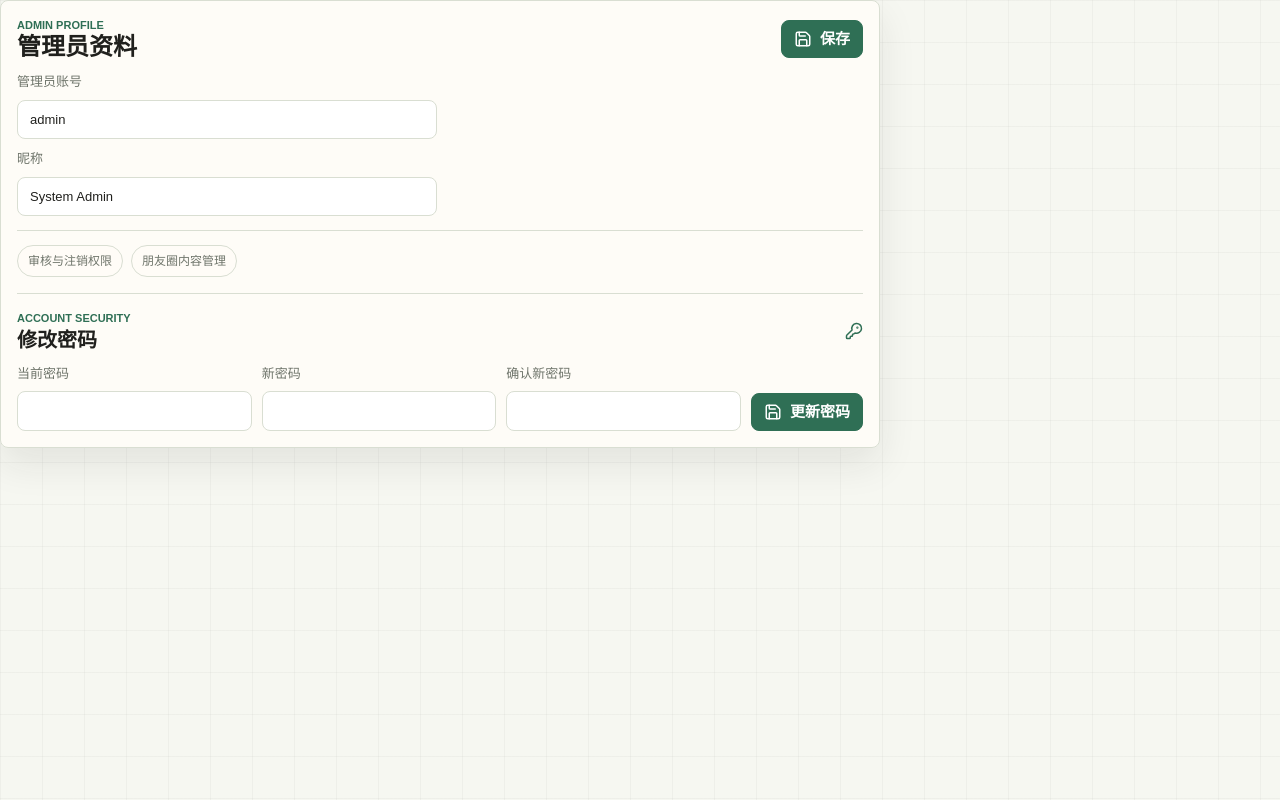
Scenario: ProfileEditor › shows admin account details and saves the display name
Check: the field with test id "profile-username" holds "admin", box [17,100,437,139]
Replace the text in the field with test id "profile-display-name" with "Lead Admin" at point(227, 197), box [17,177,437,216]
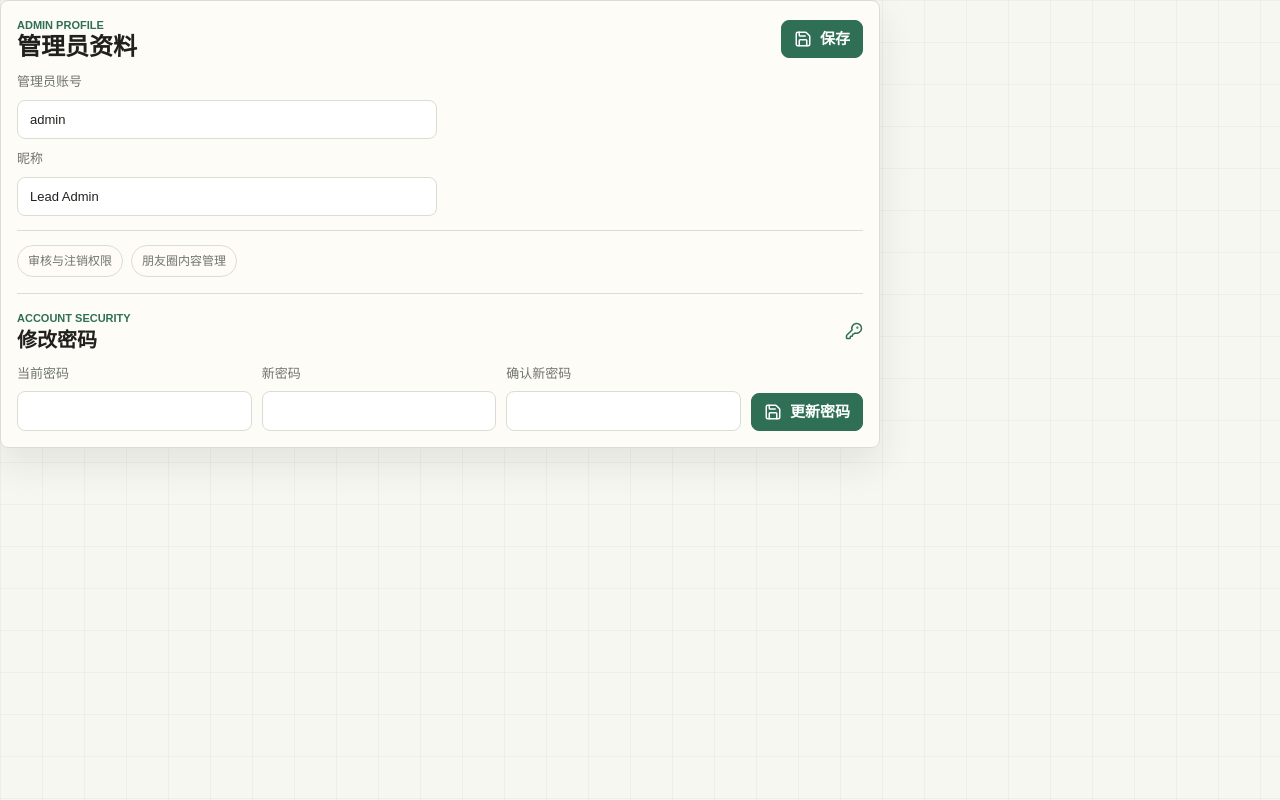
Click the button with test id "profile-save" at point(822, 39), box [781,20,863,58]
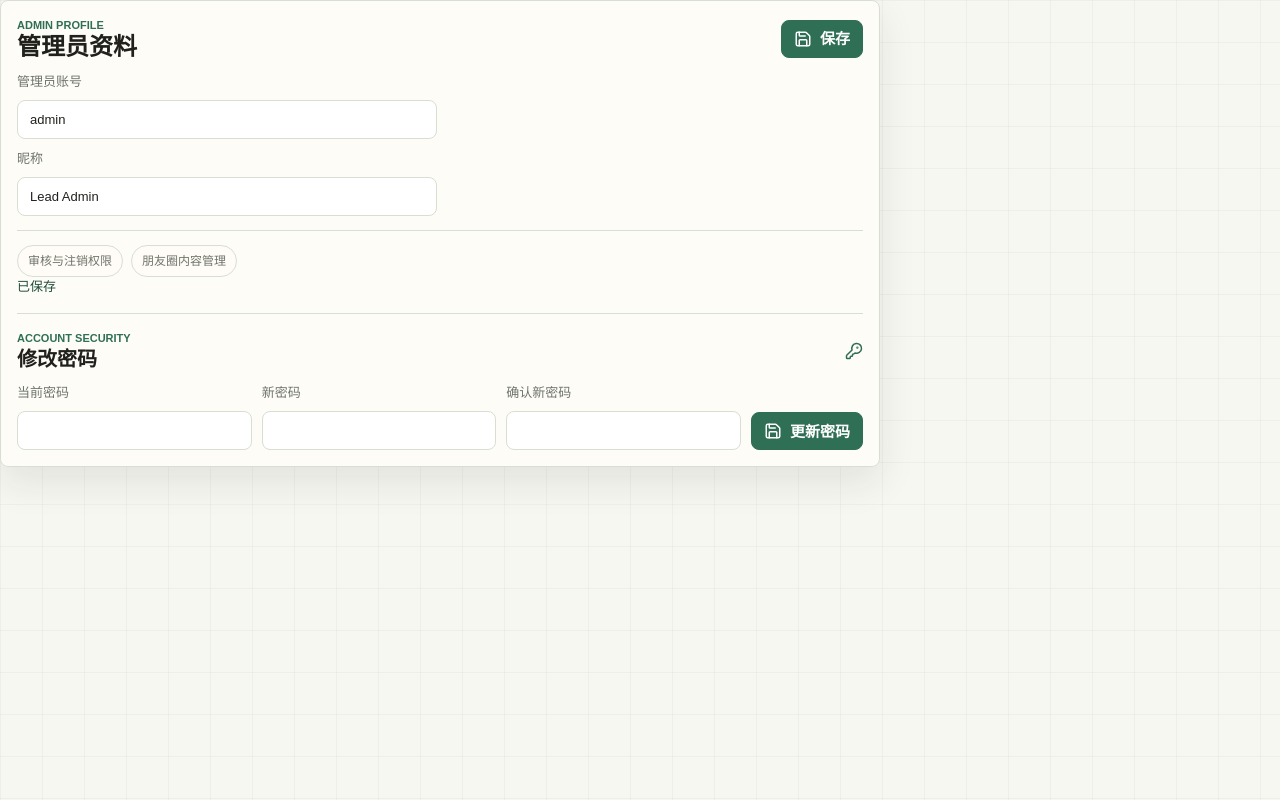
Check: the text "已保存" is shown, box [17,279,56,294]
